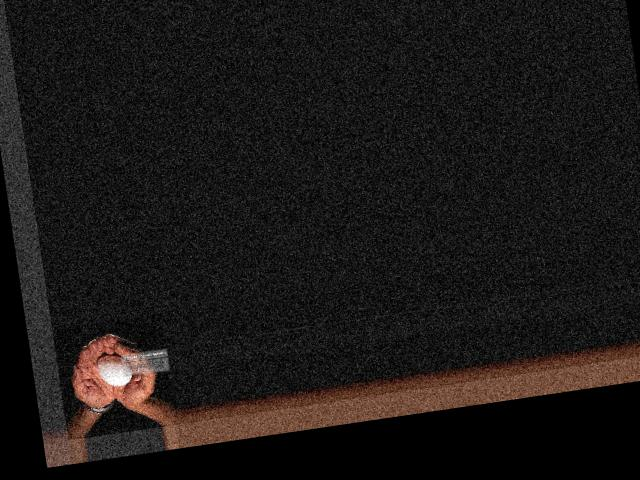egg: (94, 351, 131, 388)
